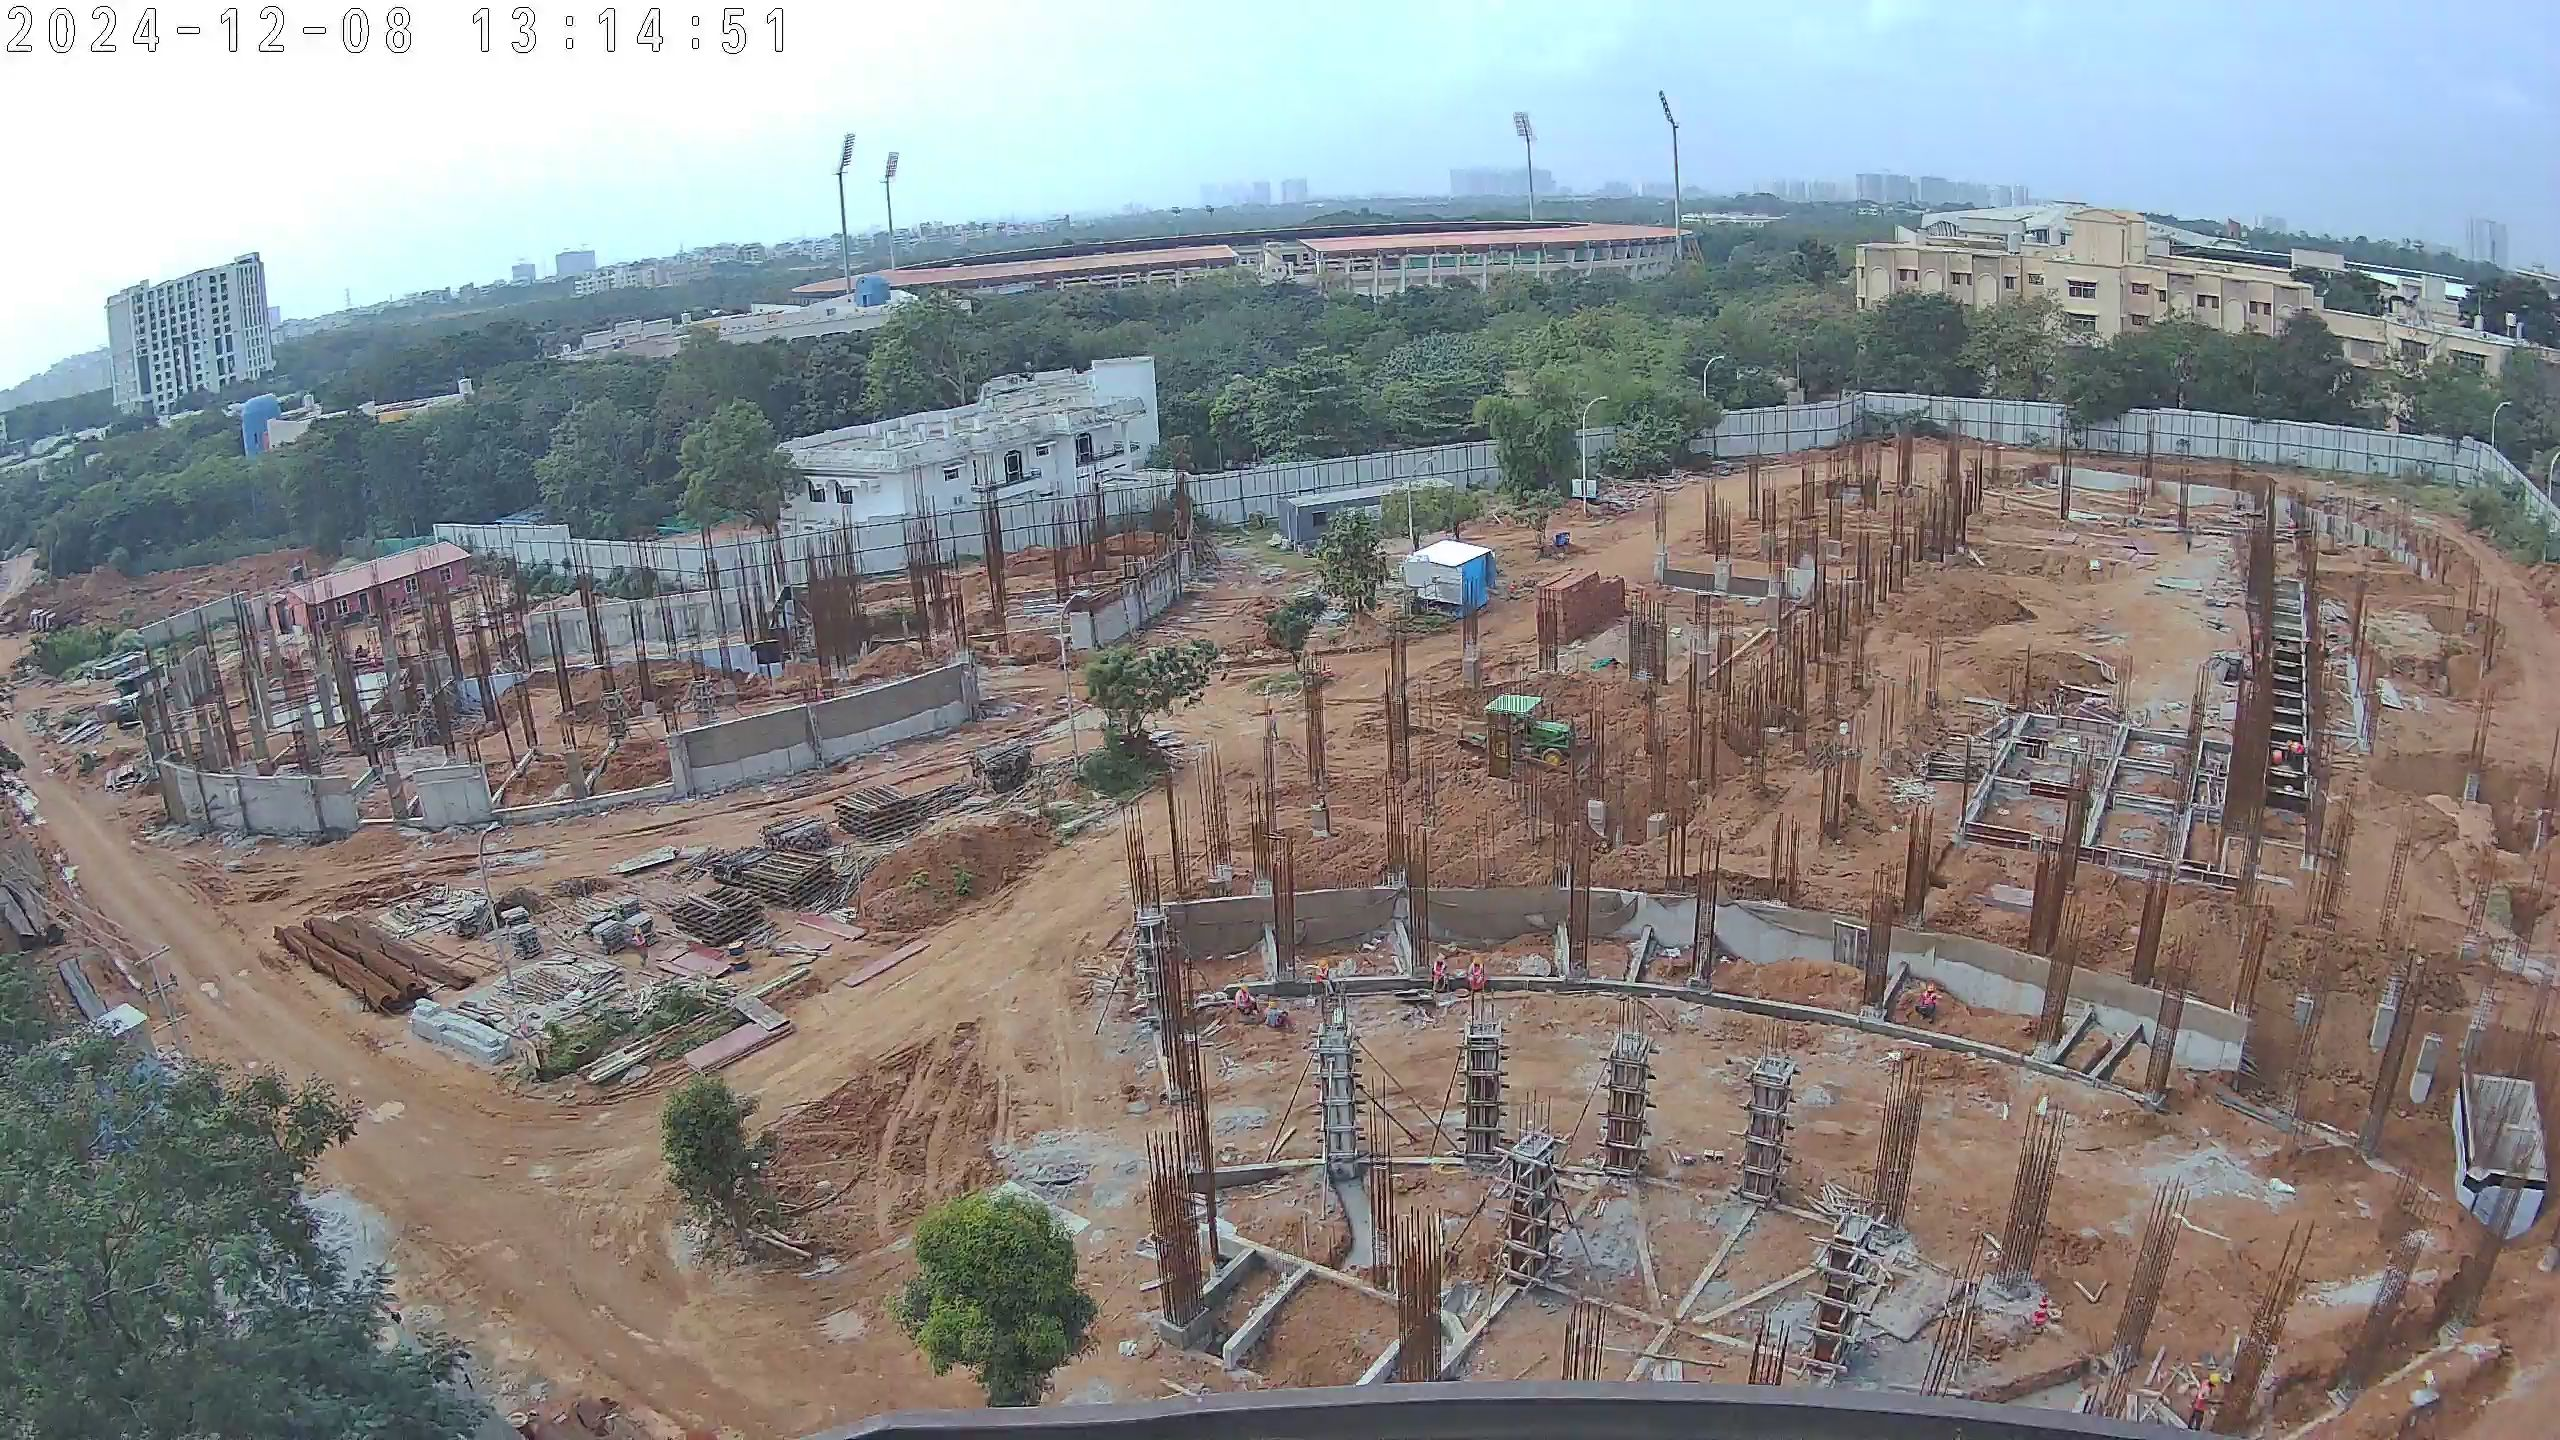bulldozer: (1453, 689, 1602, 784)
worker: (2189, 1372, 2222, 1440), (1460, 956, 1489, 1022), (1912, 979, 1941, 1039), (1259, 998, 1299, 1038), (1307, 953, 1340, 1001), (1227, 979, 1262, 1022), (1431, 952, 1450, 1014), (1263, 704, 1286, 752), (632, 923, 655, 968), (2282, 734, 2310, 766)
